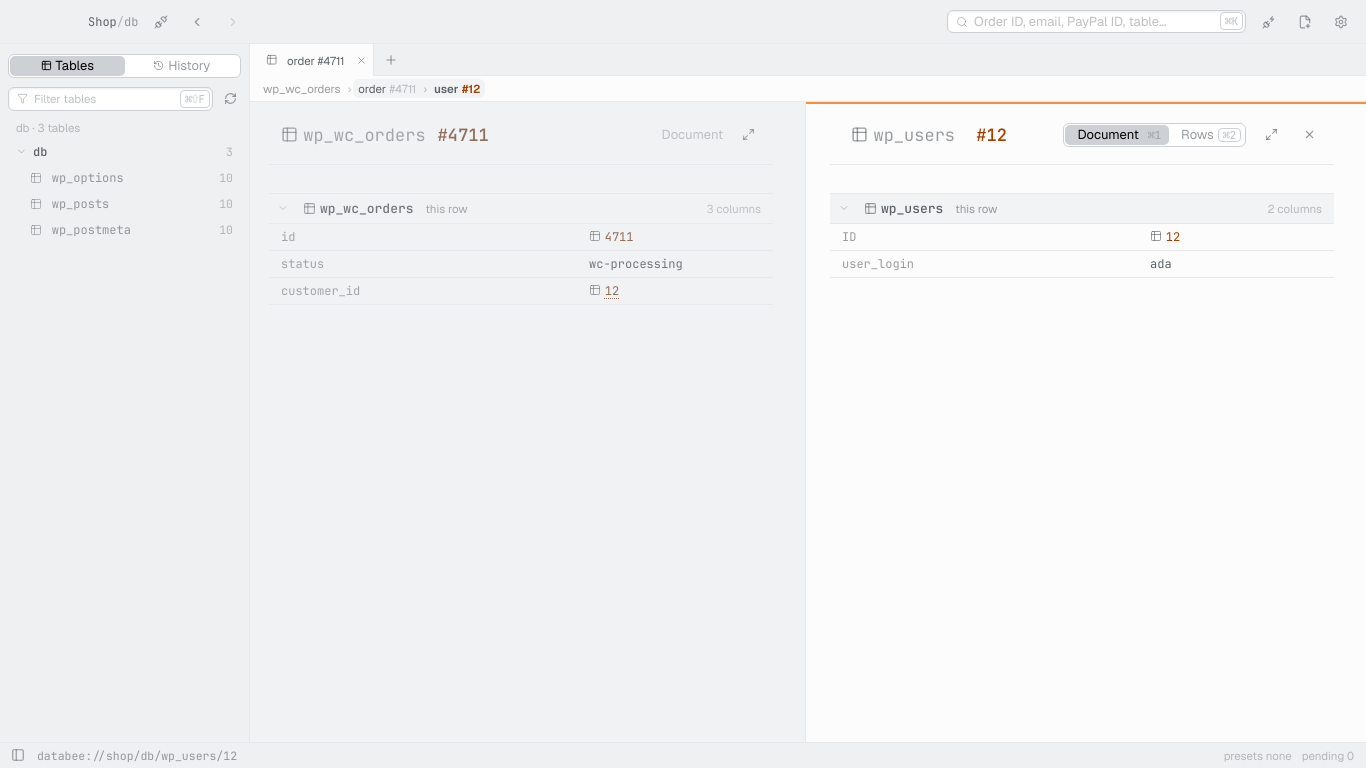
Test: column stack › maximize › shows only the pane whose button is clicked, and restores the panes from its Restore button
Expected: the element showing "db 3 wp_options 10 wp_posts 10 wp_postmeta 10" is shown, [16,144,233,238]
Expected: the element named "Object header" is shown, [269,102,773,165]
Click the 2nd button named "Maximize pane" at (1271,135), box [1258,122,1284,148]
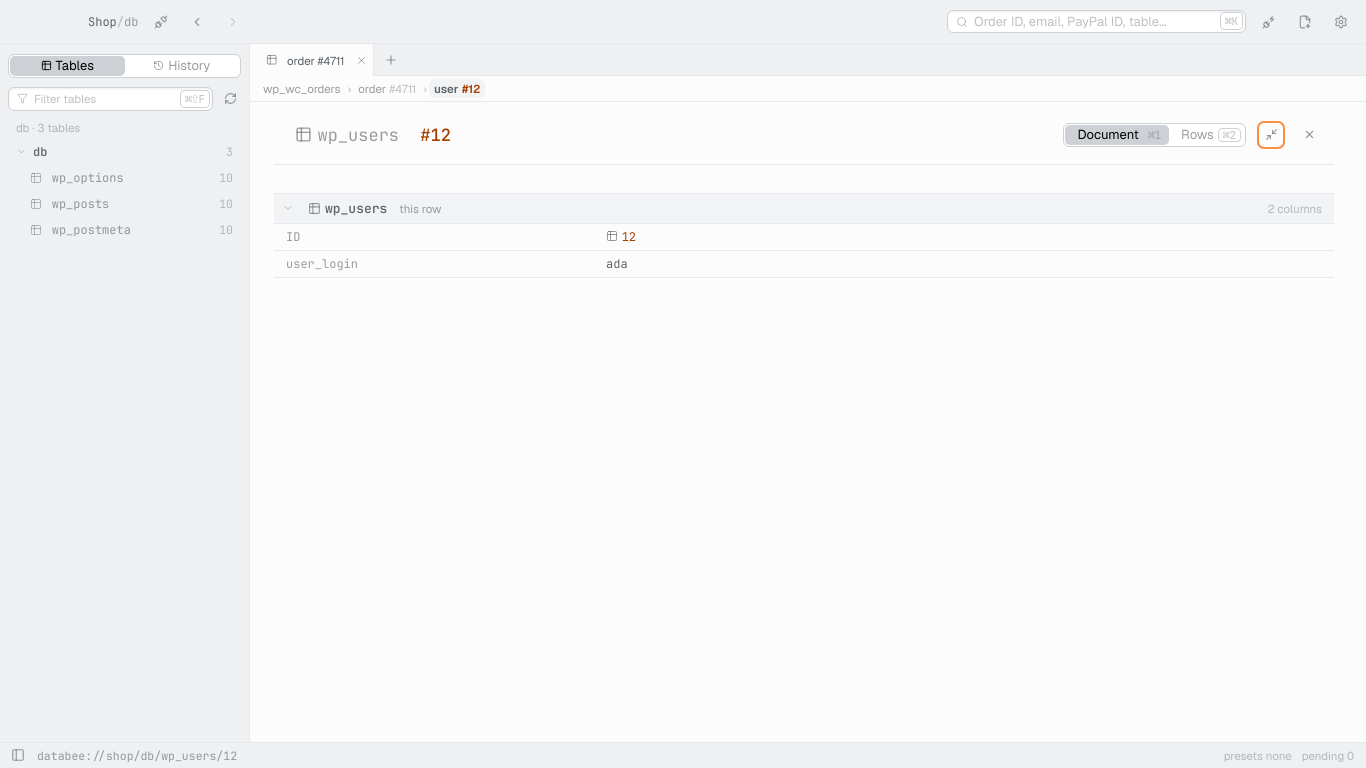
Expected: the element "wp_wc_orders #4711" is gone
Click the button named "Restore panes" at (1271,135), box [1258,122,1284,148]
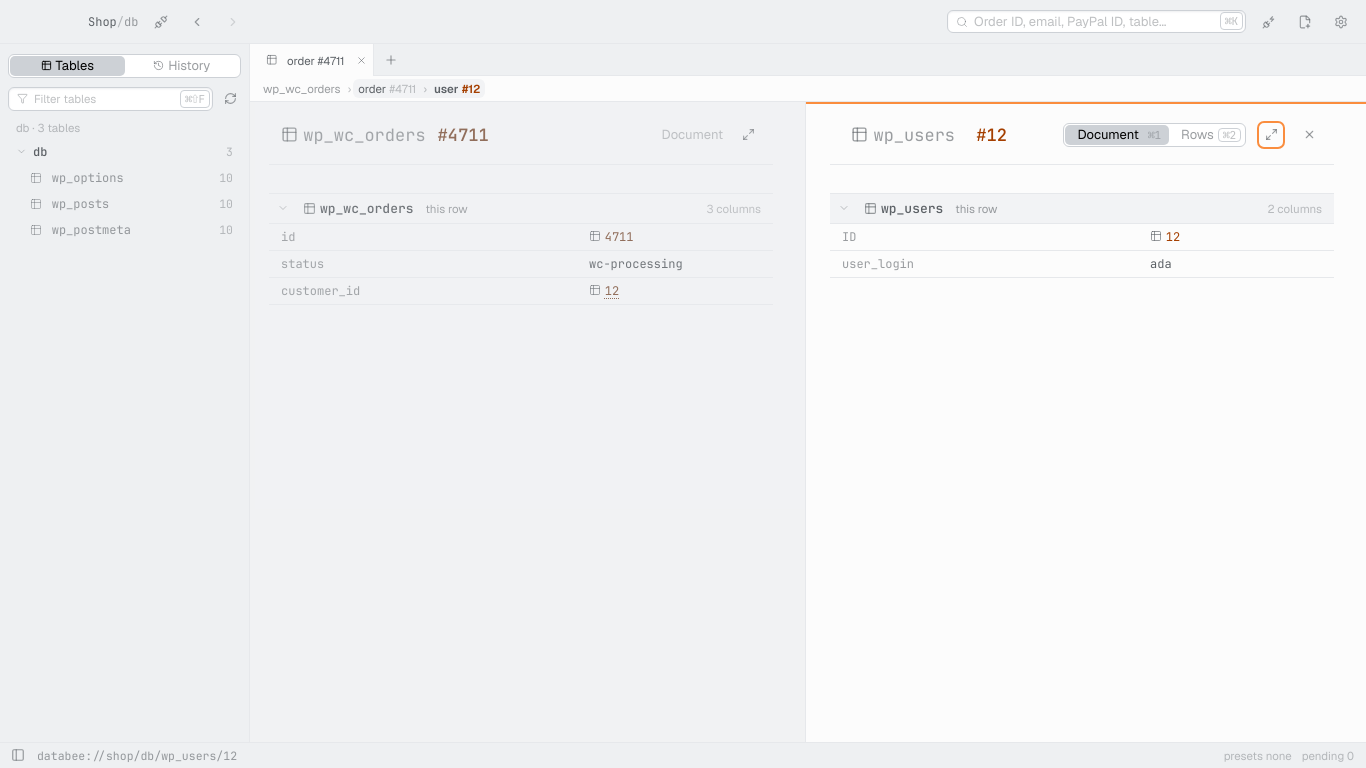
Expected: the element "wp_users #12" is shown, [806,102,1365,742]
Expected: the element "wp_wc_orders #4711" is shown, [250,102,805,742]
